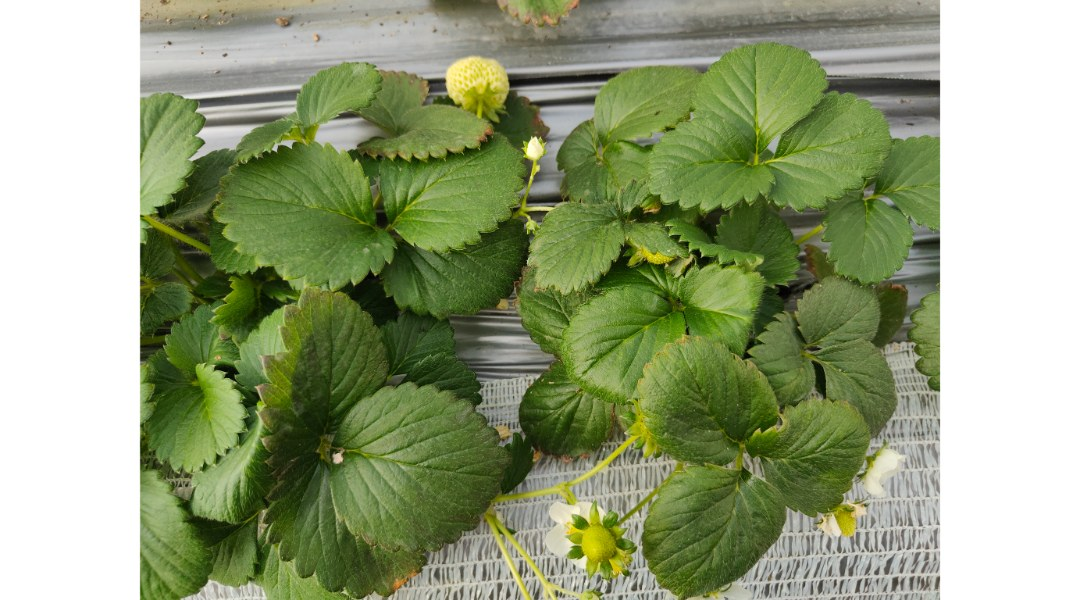berry: (435, 52, 524, 113), (515, 134, 545, 178)
flower: (535, 500, 623, 567), (857, 435, 912, 505)
strain: (507, 429, 640, 502)
